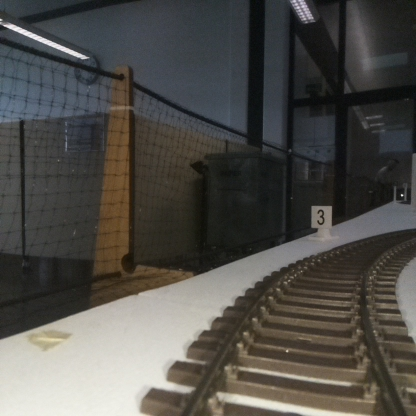white-stop-3: (311, 206, 331, 240)
